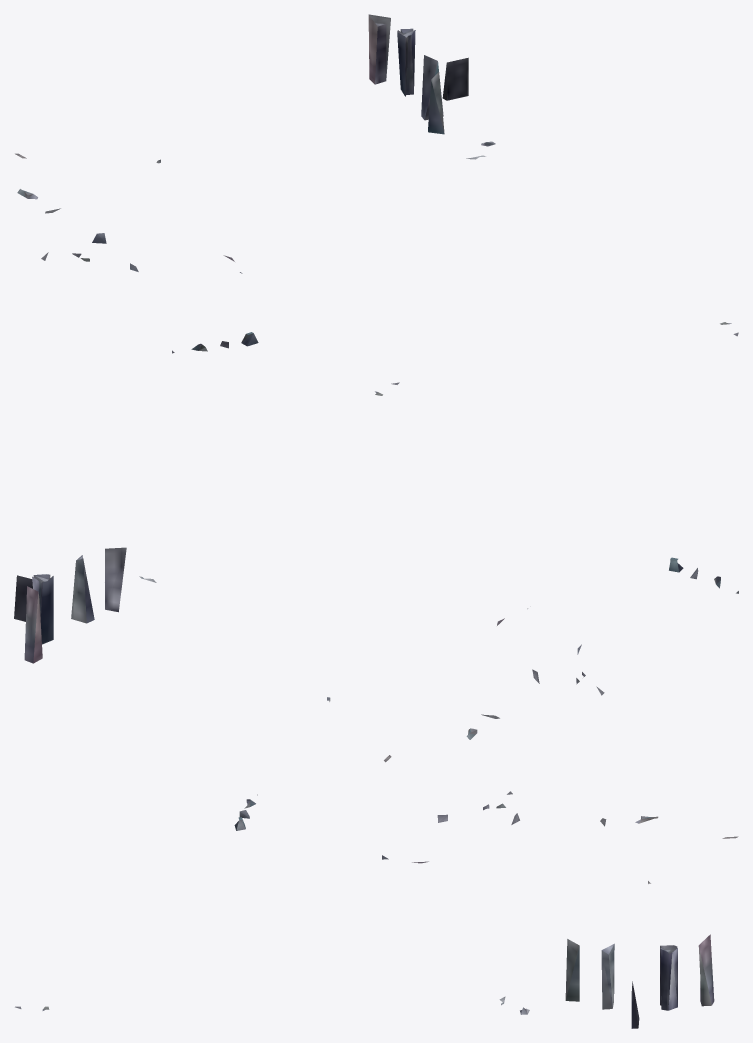
3 renders of one model, top to bottom at view 1: azimuth 30°, elevation 25°; view 2: azimuth 150°, elevation 25°; view 3: azimuth 270°, elevation 25°, orthographic. The views are drawn at different scales.
Visible parts, largest first — view 1: Mesh_0; view 2: Mesh_0; view 3: Mesh_0.
Boxes of the visible parts, box(x1,y1,x2,y2) form: Mesh_0: box(15, 14, 738, 353); Mesh_0: box(14, 382, 738, 762); Mesh_0: box(15, 791, 738, 1028).
Bounding box in the file's own units: 1588 × 208 × 2078.
1 material, 1 textured.
